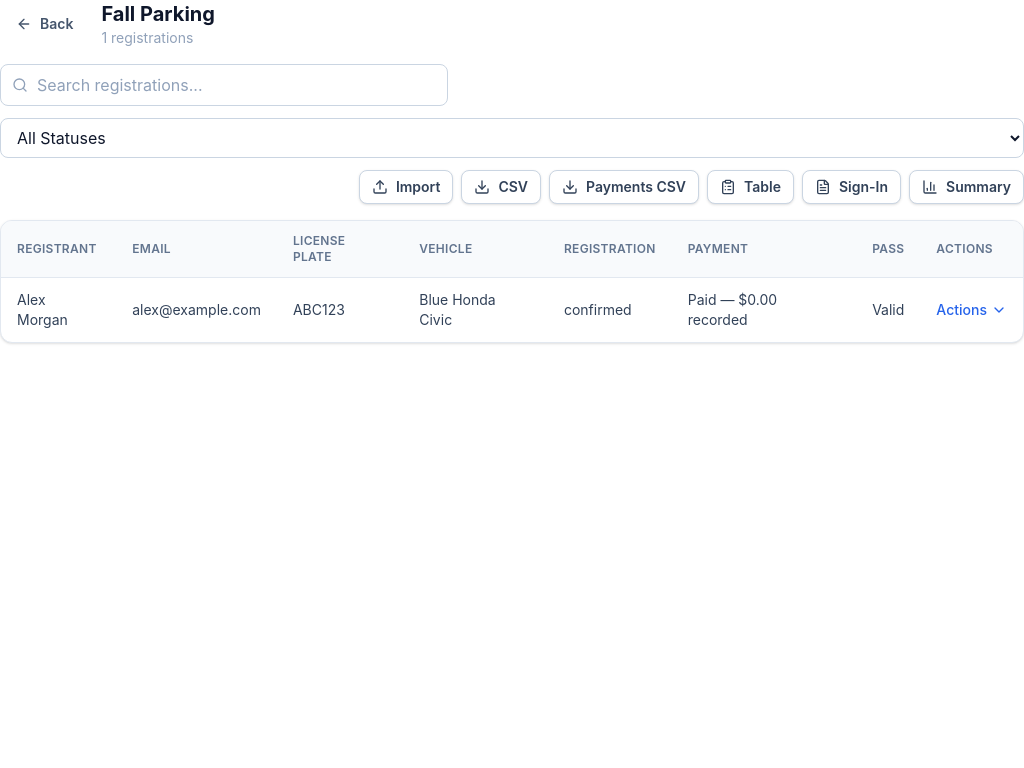
Scenario: RegistrationViewer › prompts after printing and finalizes from the authoritative RPC response
This screenshot has width=1024, height=768.
Click the button "Actions": (972, 310) x1=936 y1=300 x2=1007 y2=320
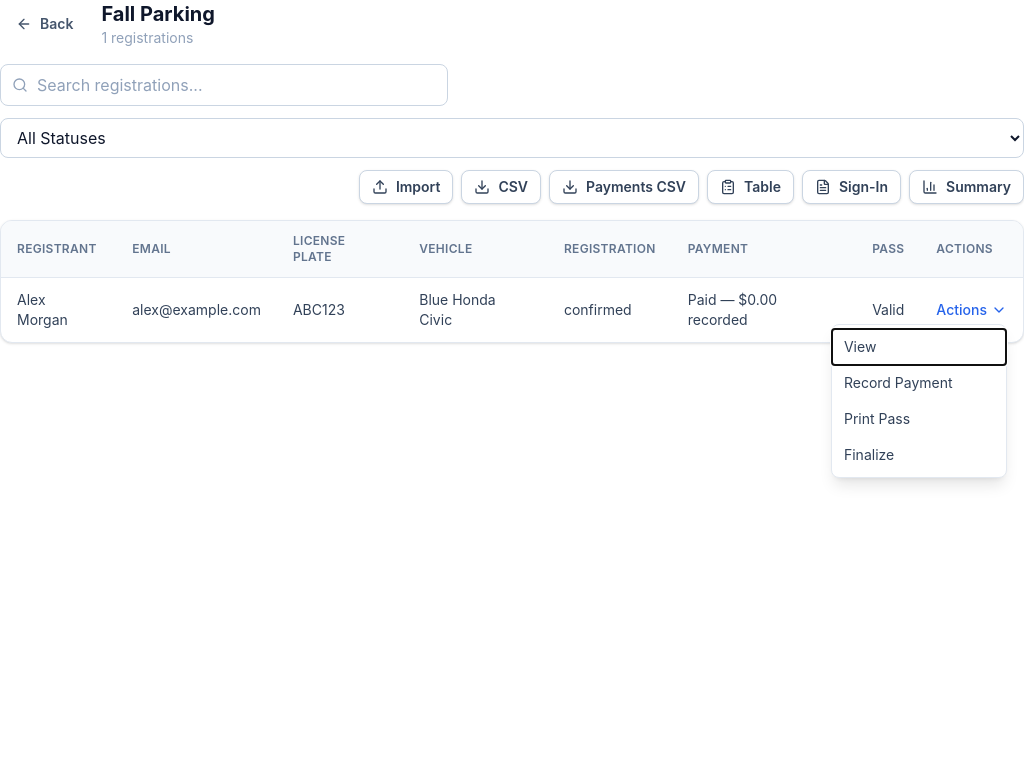
Click the menu item "Print Pass": (919, 419) x1=832 y1=401 x2=1006 y2=437
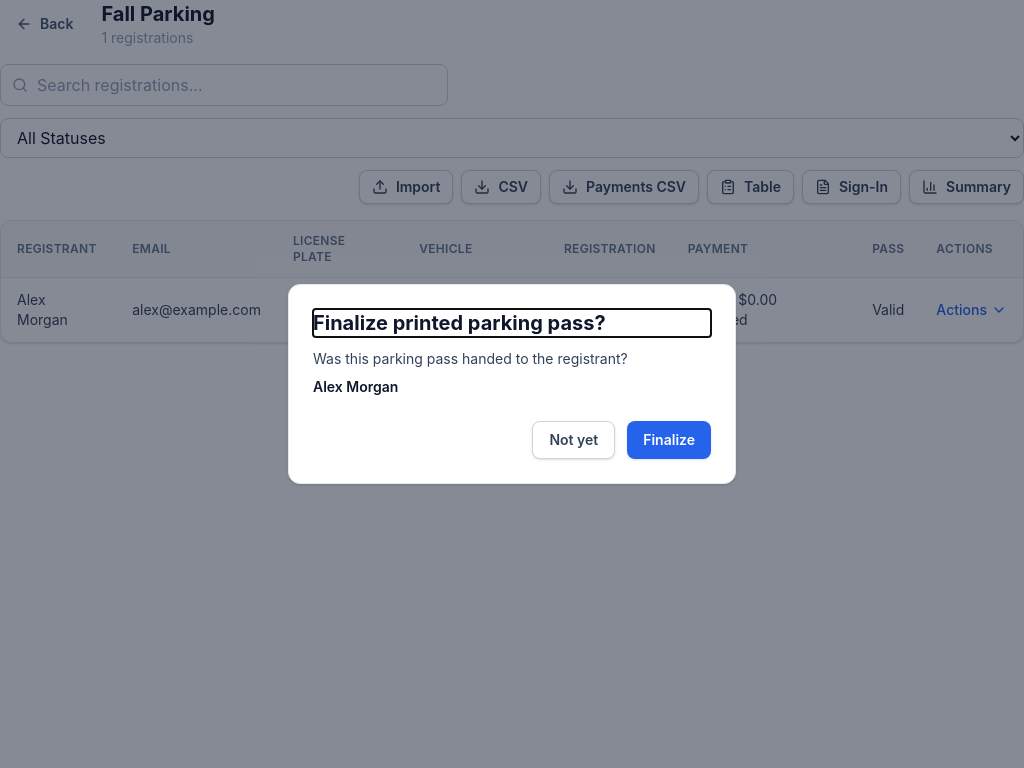
Expected: the dialog "Finalize printed parking pass?" is shown, x1=288 y1=284 x2=736 y2=484
Click the button "Finalize": (669, 440) x1=627 y1=421 x2=711 y2=459
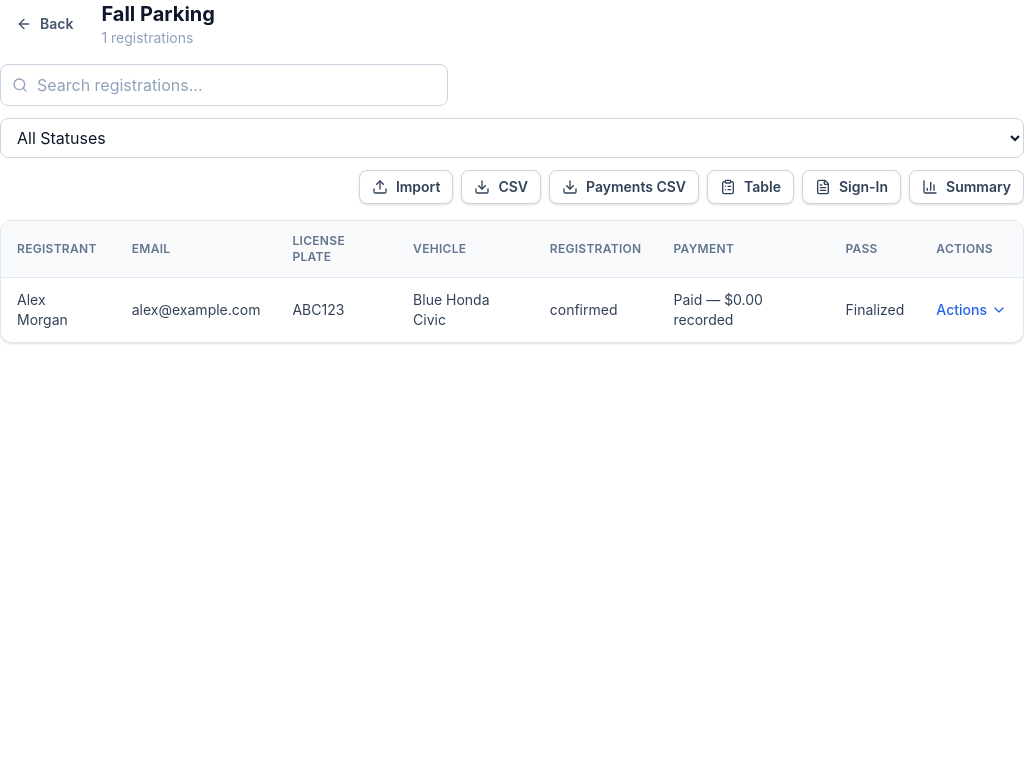
Expected: the text "Finalized" is shown, x1=830 y1=278 x2=920 y2=342
